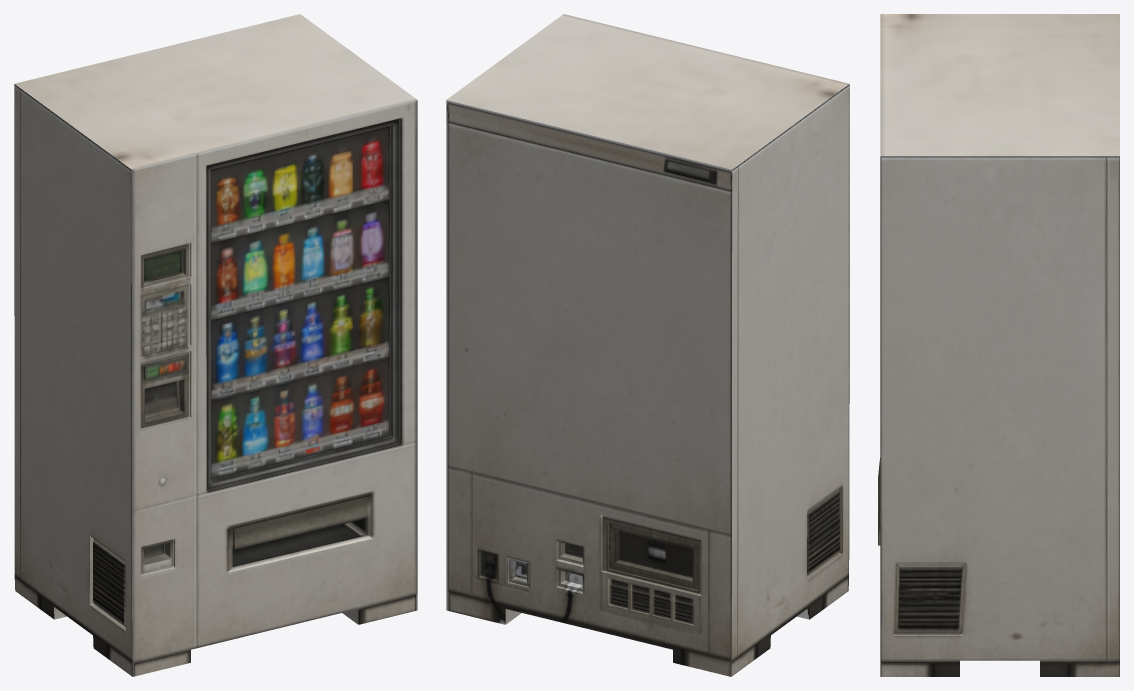
File: vendmach.glb
3 views of the same model, side by side, from view 1: azimuth 30°, elevation 25°; view 2: azimuth 150°, elevation 25°; view 3: azimuth 270°, elevation 25° (orthographic).
Parts seen in each view (by area): view 1: ChatGPT Image Jan 19, 2026, 03_39_45 PM; view 2: ChatGPT Image Jan 19, 2026, 03_39_45 PM; view 3: ChatGPT Image Jan 19, 2026, 03_39_45 PM.
Part boxes in pixels (<box>): ChatGPT Image Jan 19, 2026, 03_39_45 PM: <box>14,14,417,676</box>; ChatGPT Image Jan 19, 2026, 03_39_45 PM: <box>446,14,849,676</box>; ChatGPT Image Jan 19, 2026, 03_39_45 PM: <box>878,14,1119,676</box>.
Bounding box in the file's own units: 1.86 × 3.17 × 1.33.
1 material, 1 textured.
